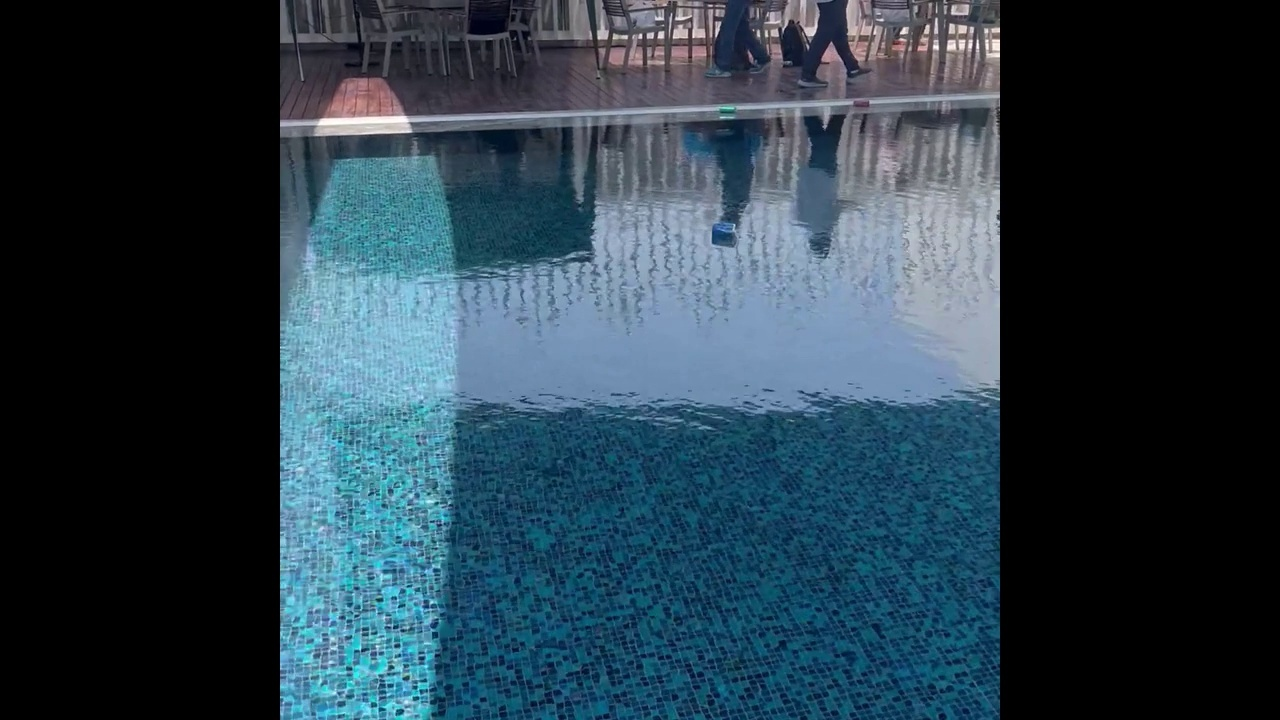debris: (712, 219, 738, 242), (715, 101, 738, 117), (850, 96, 871, 110)
